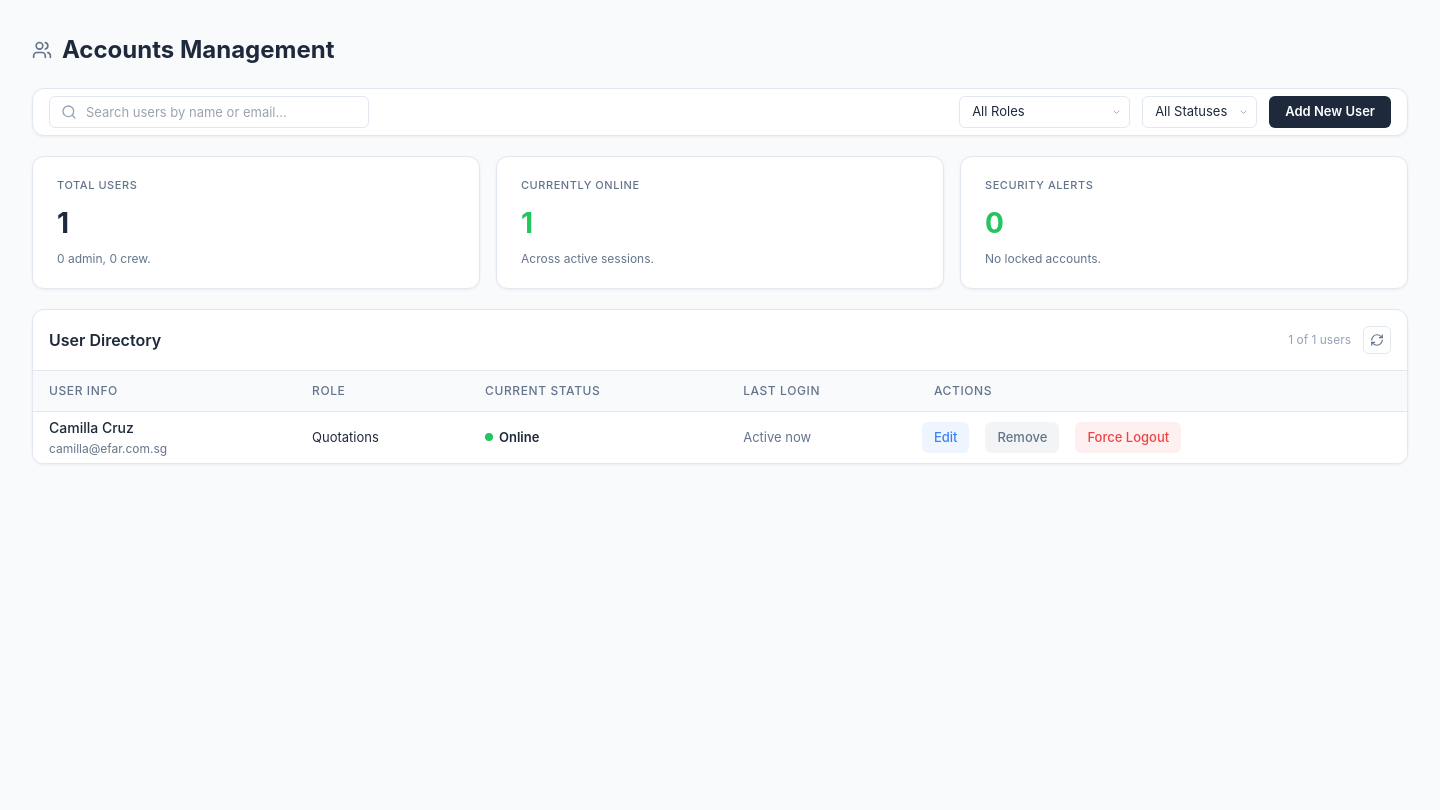
Test: Accounts Management - Add New User form › server error (500) shows an error message and keeps the form open
Check: the text "camilla@efar.com.sg" is shown, box [49, 441, 167, 456]
Click the button "Add New User".
click(1330, 112)  # box [1269, 96, 1391, 128]
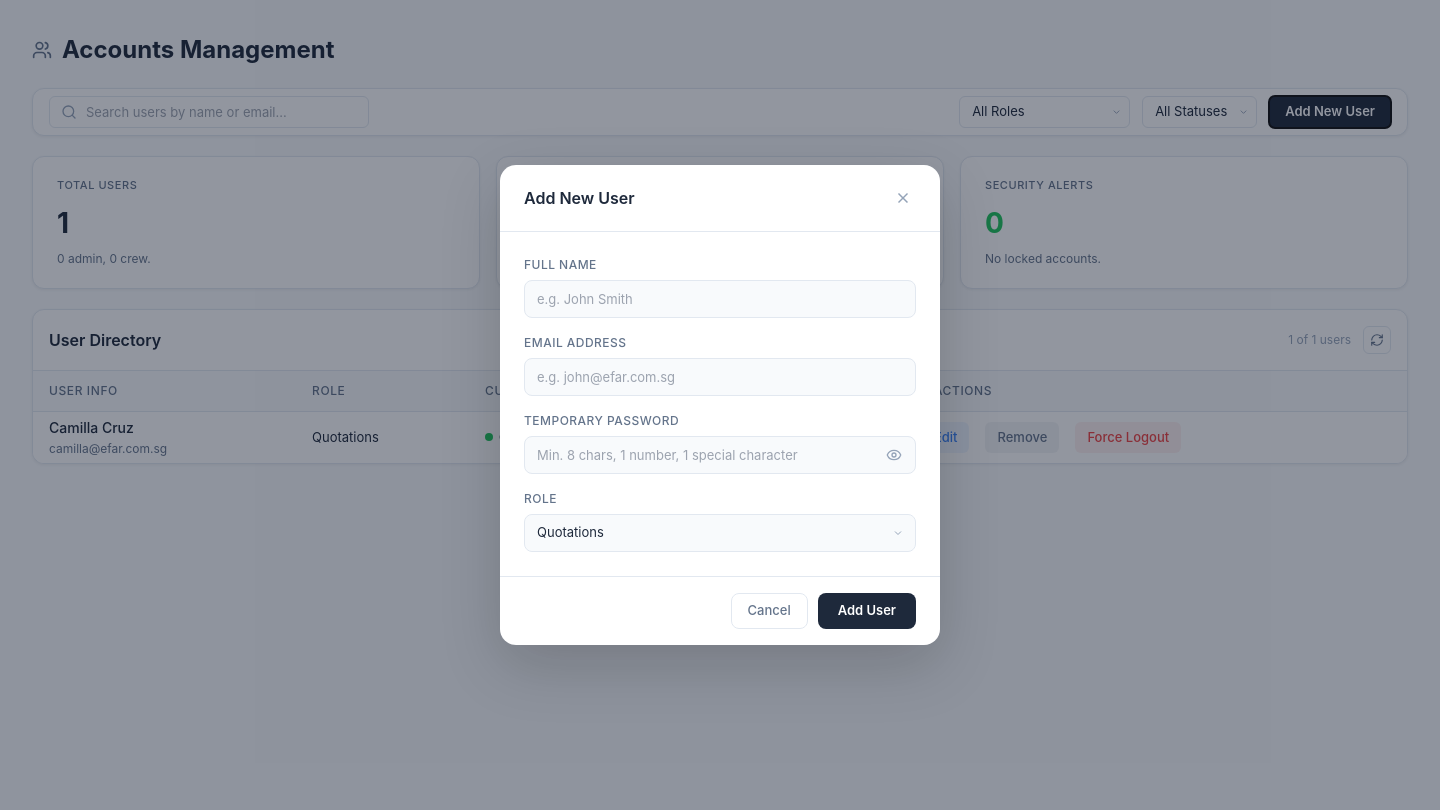
Type "John Smith" into the field with placeholder "e.g. John Smith".
click(720, 299); type("John Smith")  # box [524, 280, 916, 318]
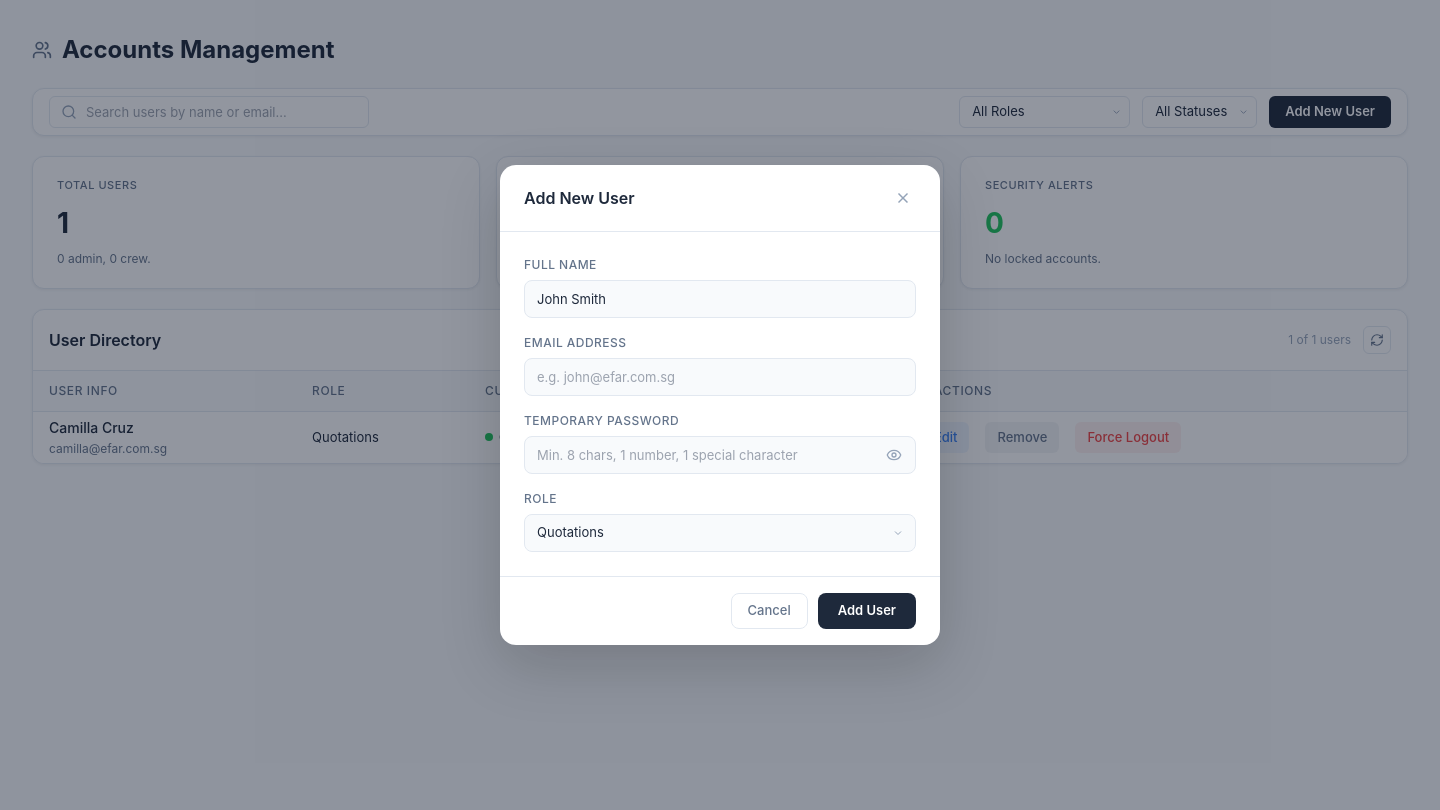
Type "john@efar.com.sg" into the field with placeholder "e.g. john@efar.com.sg".
click(720, 377); type("john@efar.com.sg")  # box [524, 358, 916, 396]
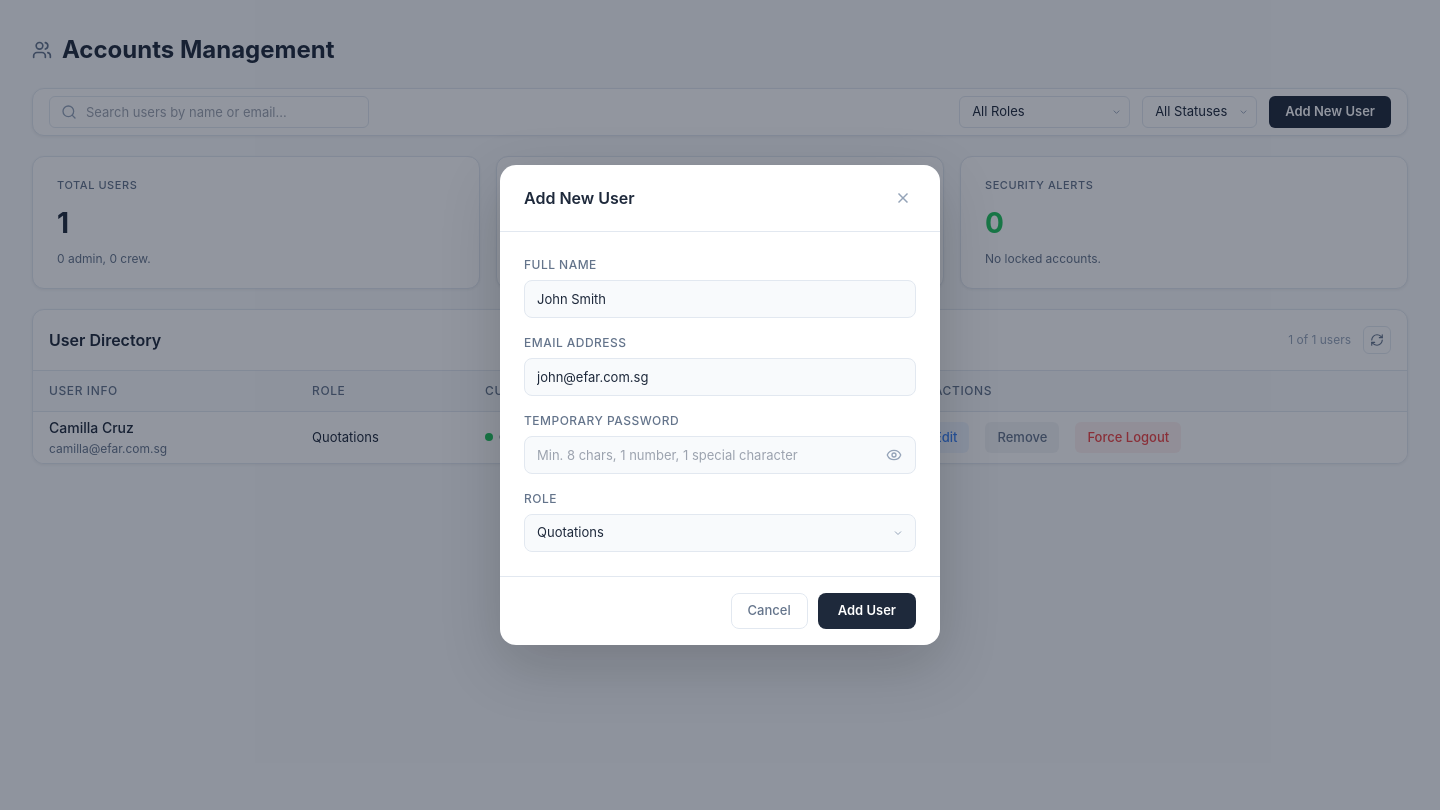
Type "Efar@2026" into the password field with placeholder "Min. 8 chars, 1 number, 1 special character".
click(720, 455); type("Efar@2026")  # box [524, 436, 916, 474]
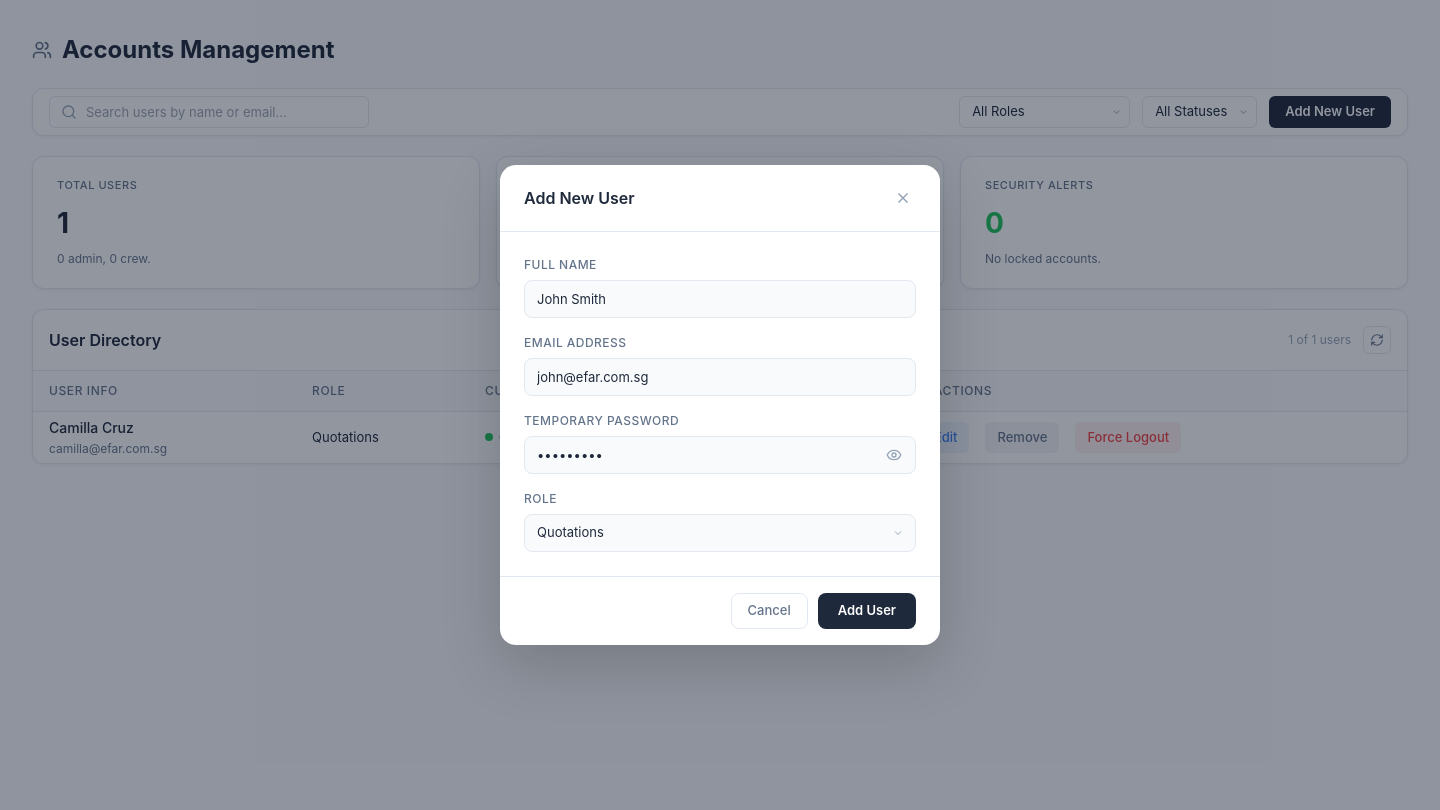
Click the button "Add User".
click(867, 611)  # box [818, 593, 916, 629]
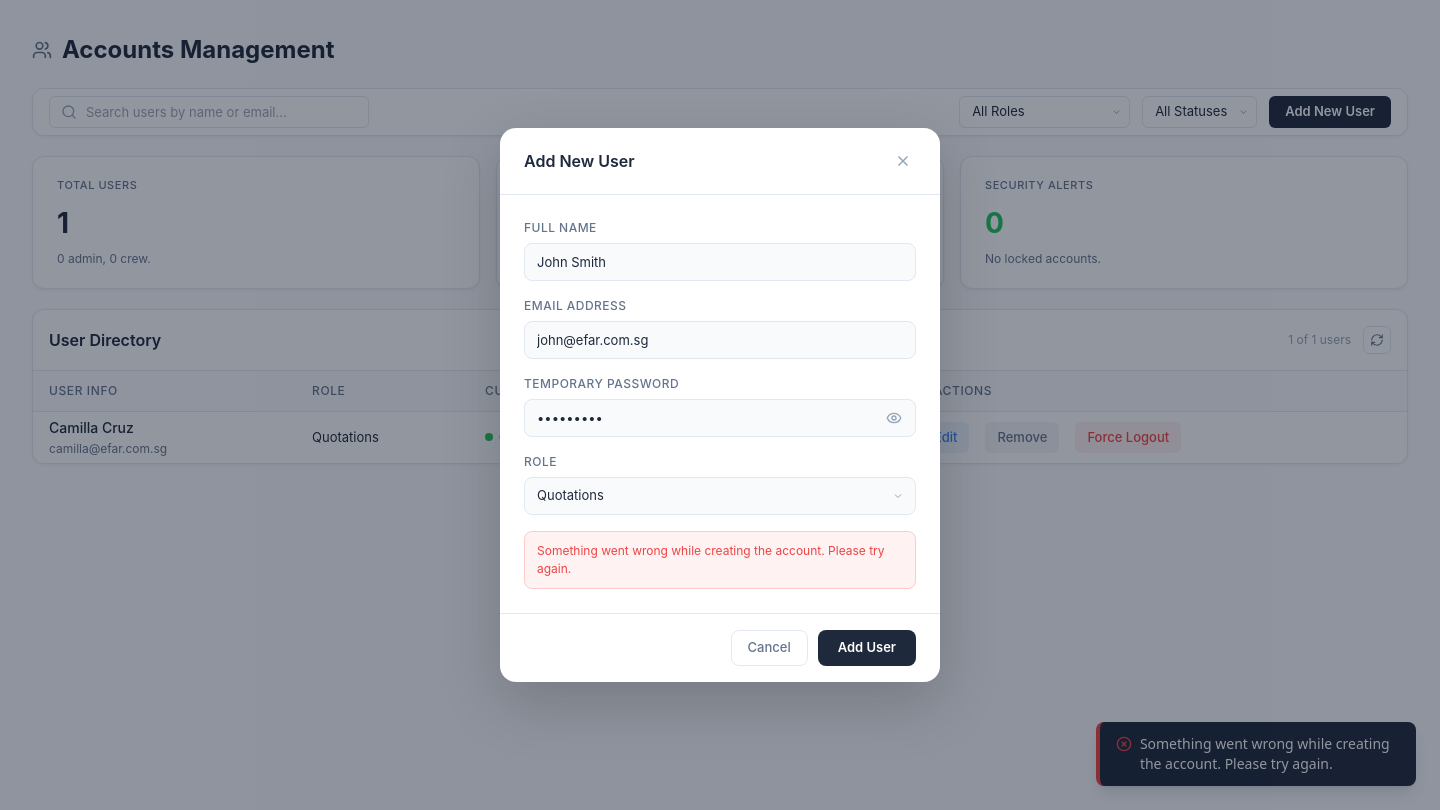
Check: the heading "Add New User" is shown, box [524, 149, 635, 173]
Check: the message reads "Something went wrong while creating the account. Please try again.", box [537, 543, 885, 576]
